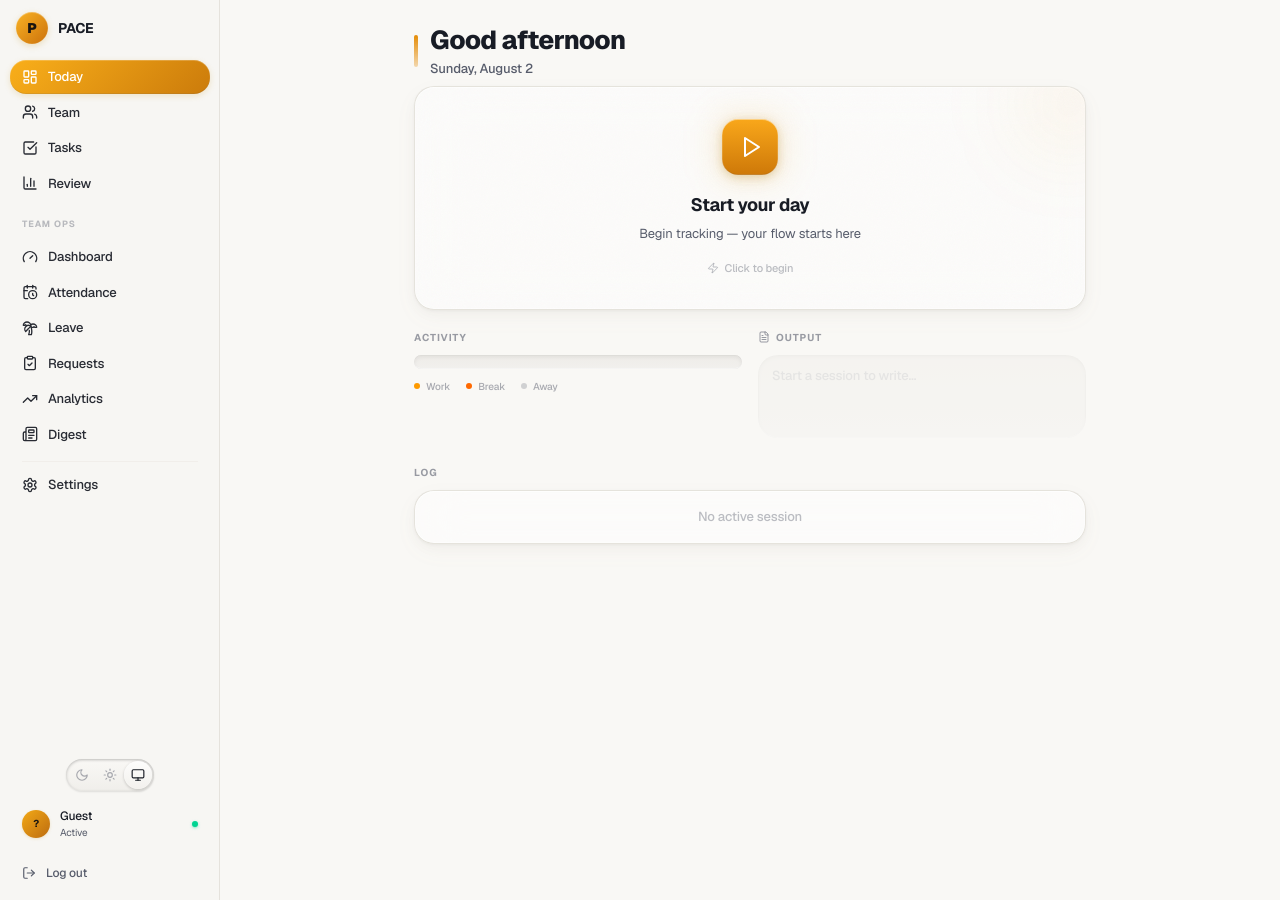
Test case: Sidebar navigation › navigates to /team when Team nav item is clicked
Click the link "Team" at (51, 112), box 22,104 -> 80,120
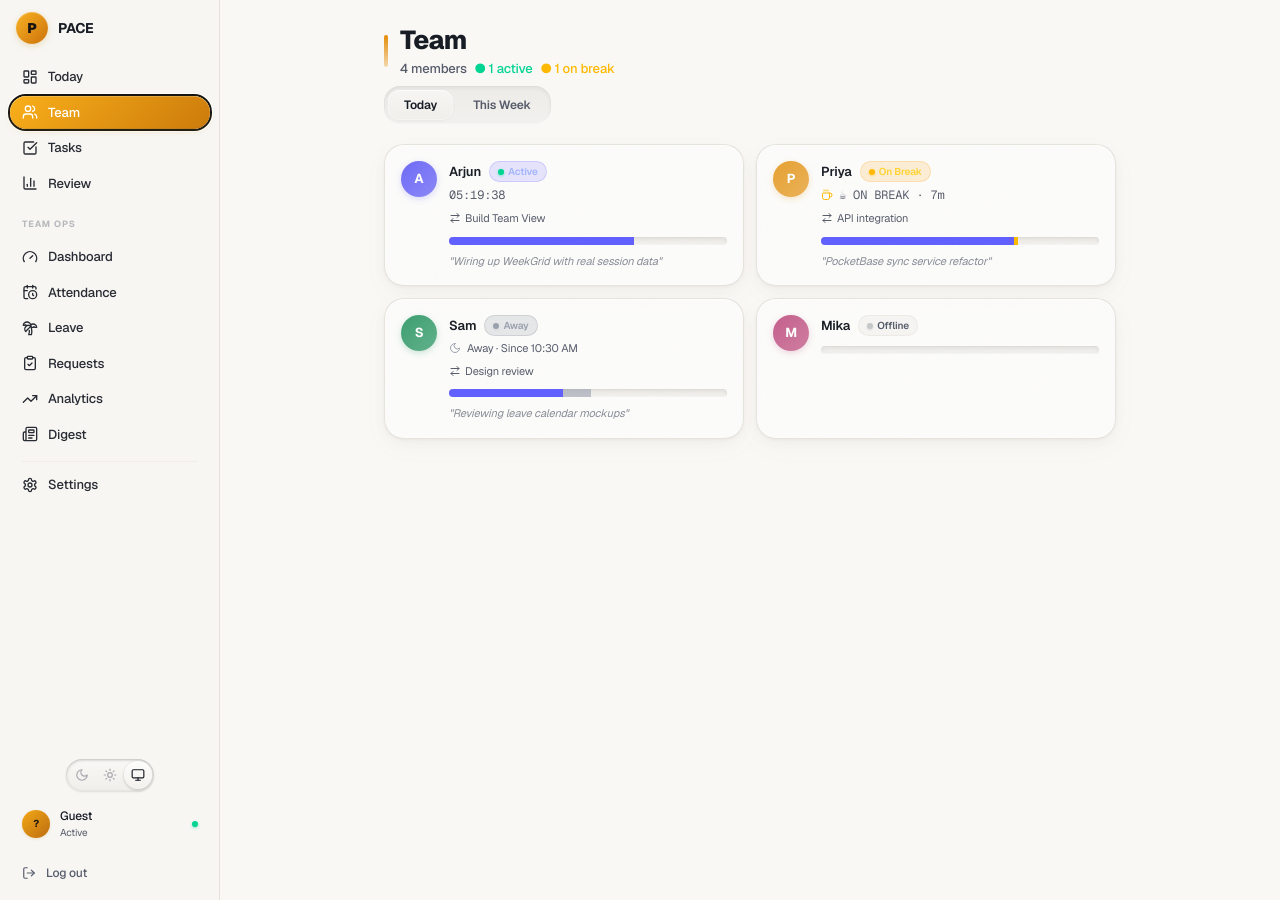
Result: the heading "Team" is shown at 400,23 -> 467,57
